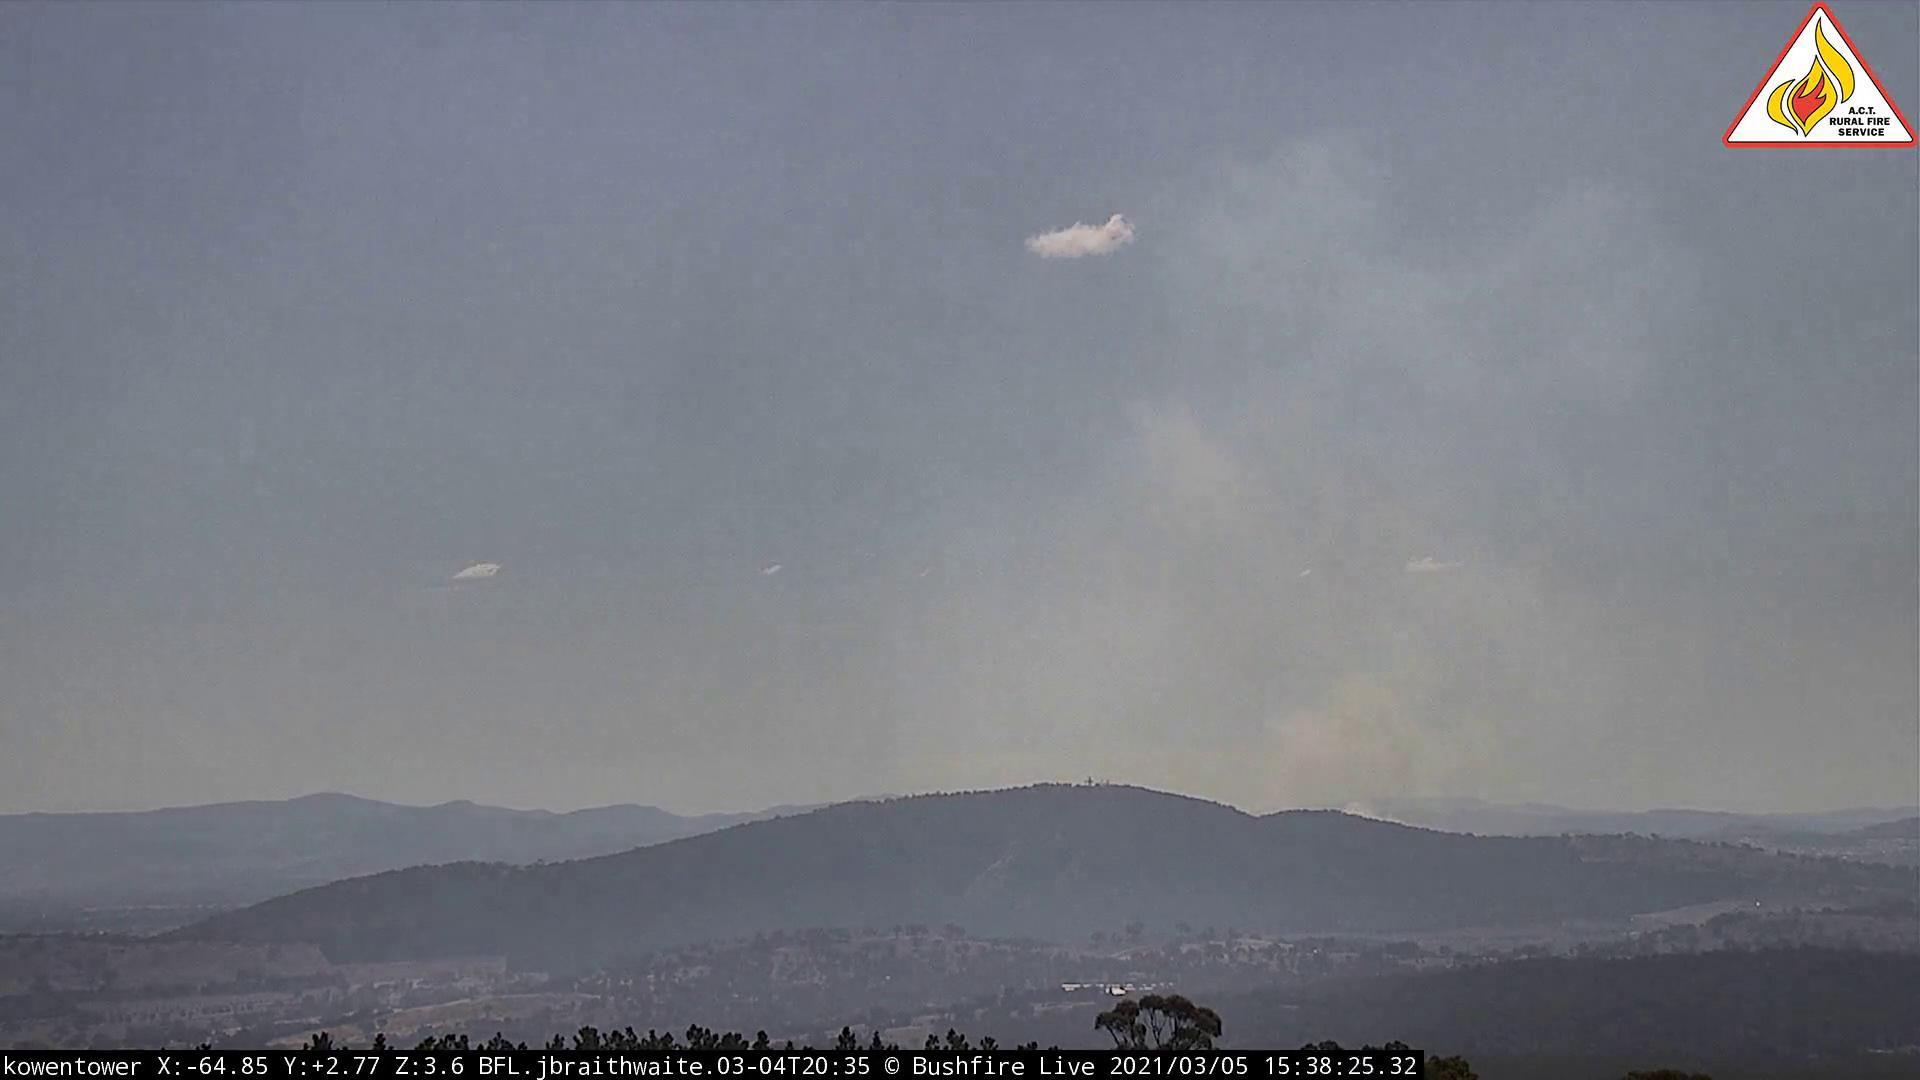Smoke: (943, 146, 1705, 852)
